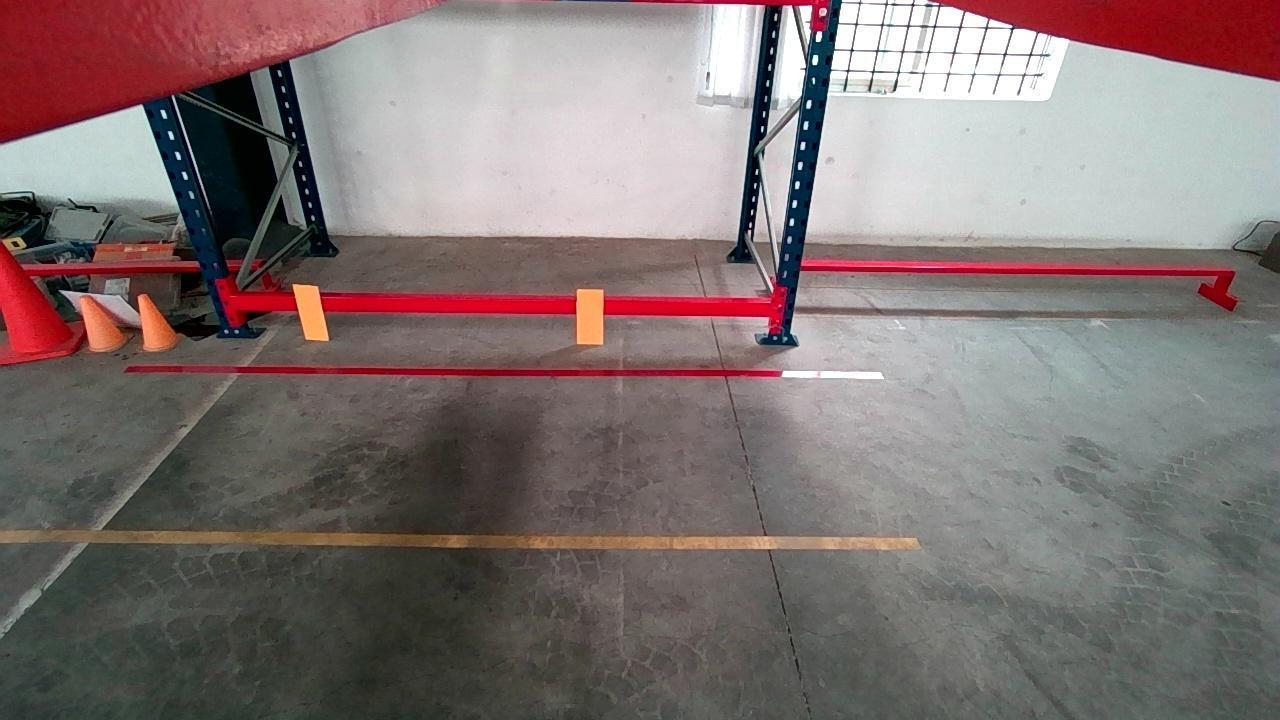h_rack: (234, 296, 773, 316)
orange_strip: (291, 284, 332, 341), (575, 288, 603, 343)
red_line: (121, 362, 883, 377)
yellow_line: (2, 531, 923, 548)
